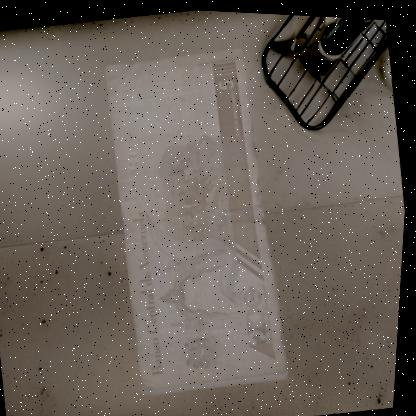five-back-vef: (87, 36, 308, 395)
